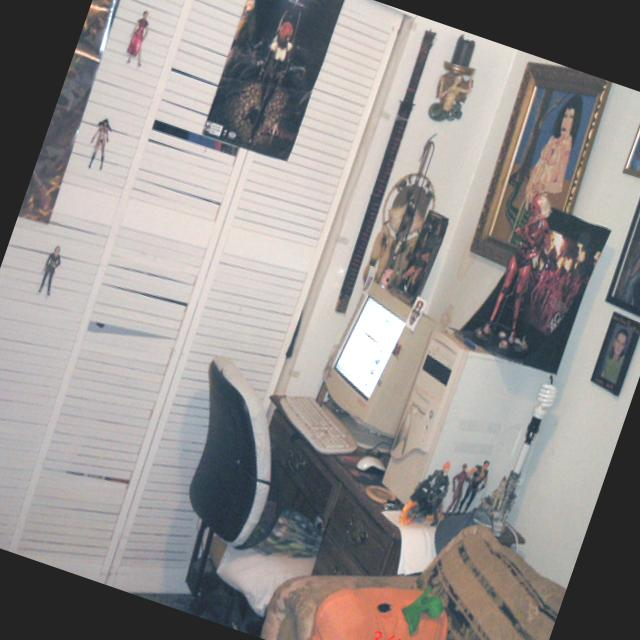Vehicle: (393, 477, 452, 539)
